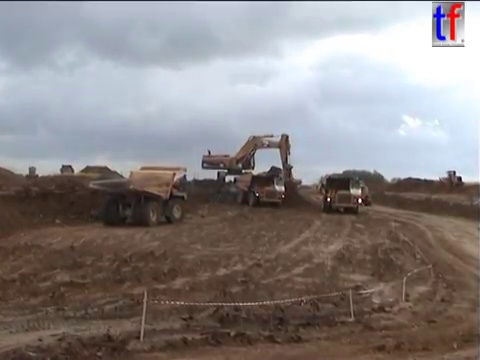excavator: (199, 132, 303, 194)
truck: (86, 164, 190, 227), (231, 170, 287, 208), (320, 172, 362, 214), (338, 175, 373, 208), (58, 163, 75, 177)
wheel loader: (433, 169, 464, 189)
